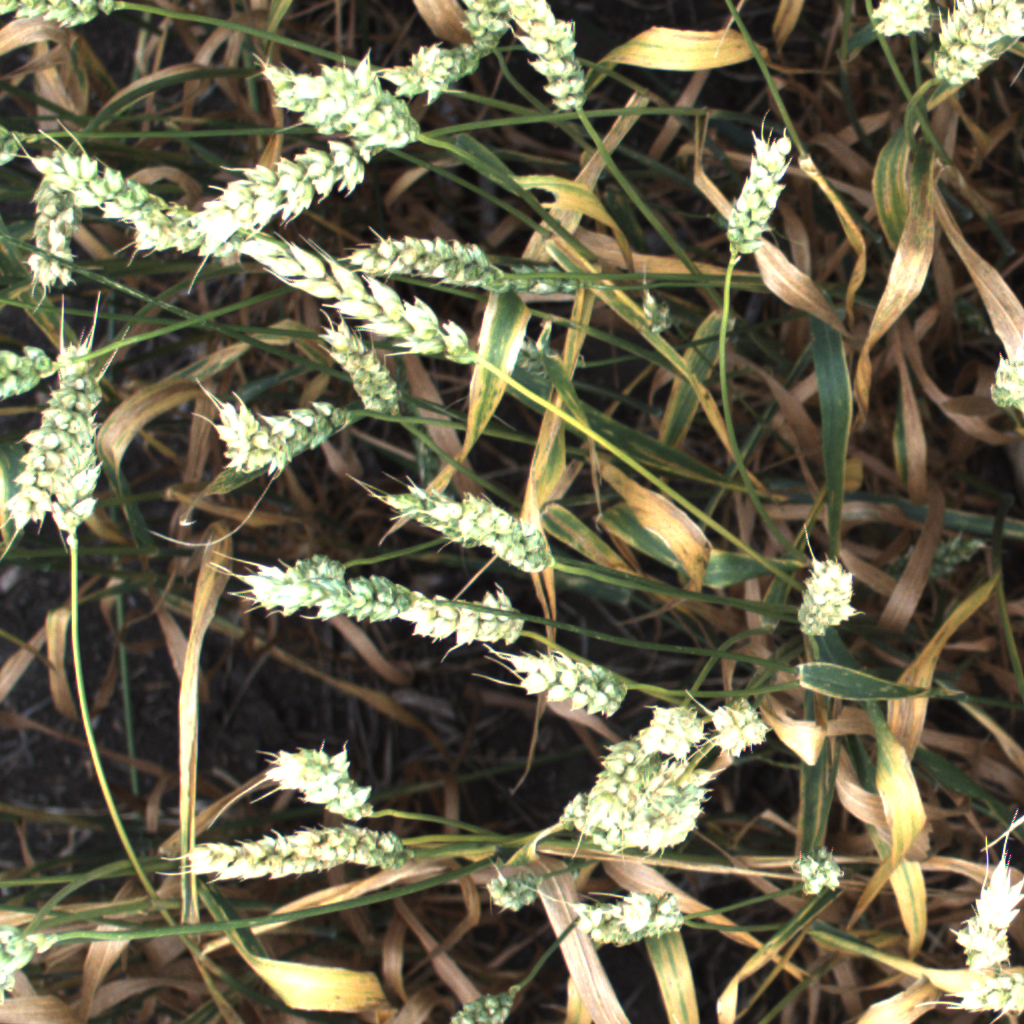wheat_head: (216, 229, 481, 368), (182, 128, 401, 262), (18, 141, 236, 267), (369, 473, 564, 583), (1, 332, 99, 548), (166, 816, 410, 893), (258, 50, 429, 159), (198, 380, 357, 478), (545, 758, 747, 835), (14, 139, 100, 300), (498, 640, 648, 732), (710, 121, 803, 264), (578, 710, 681, 839), (509, 0, 614, 124), (39, 361, 109, 543), (361, 222, 539, 292), (902, 0, 1024, 99), (252, 737, 386, 827), (253, 561, 425, 629), (943, 842, 1024, 985), (309, 323, 419, 426), (260, 817, 428, 877), (396, 586, 541, 655), (589, 791, 722, 854), (781, 549, 871, 642), (1, 333, 109, 404), (373, 34, 476, 102), (551, 258, 684, 305), (562, 885, 688, 934), (704, 687, 783, 765), (0, 906, 68, 994), (0, 0, 126, 42), (585, 906, 700, 951), (855, 0, 948, 55), (778, 841, 855, 904), (472, 857, 549, 917), (640, 694, 704, 766), (976, 336, 1024, 426), (453, 0, 511, 72), (447, 976, 525, 1024), (1010, 0, 1024, 42)
